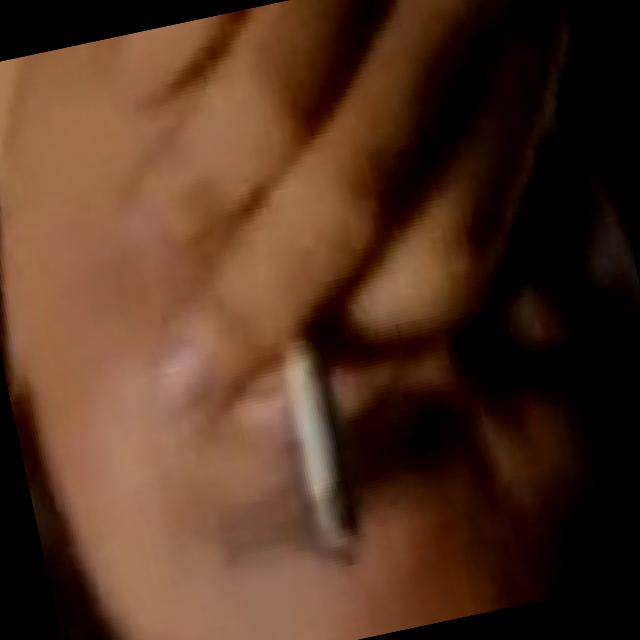smoke: (254, 309, 380, 588)
